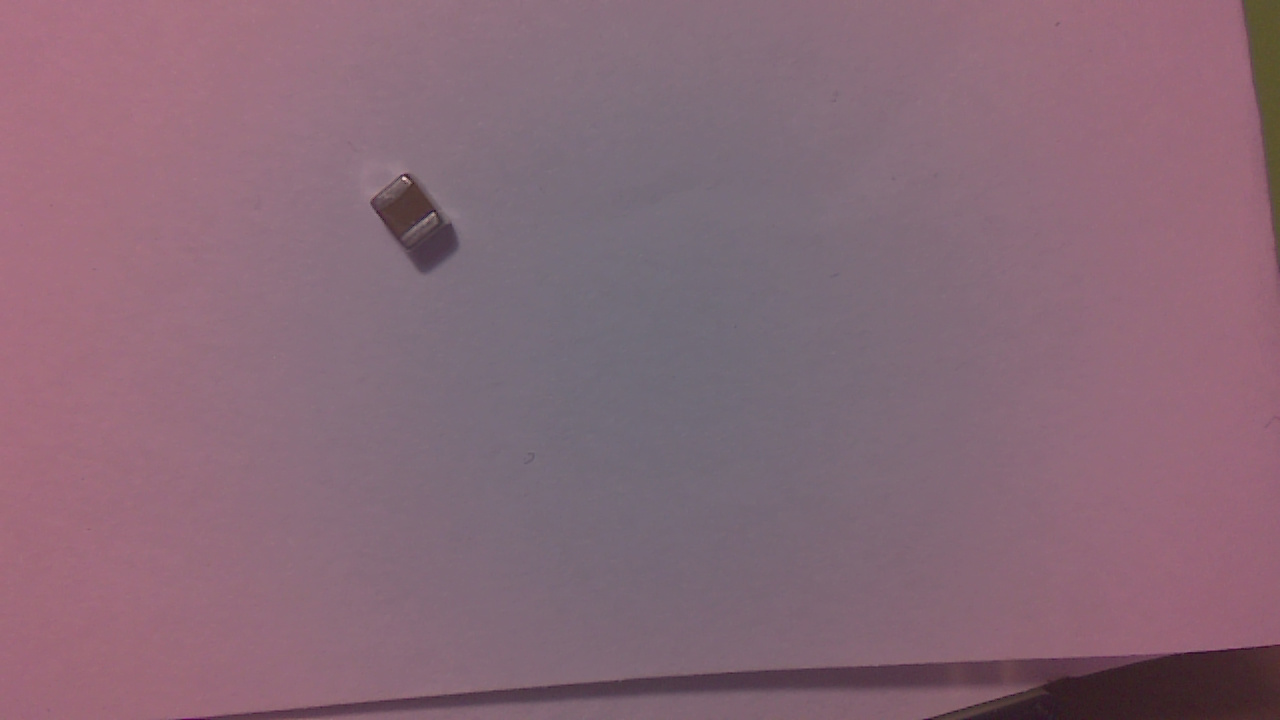Condensator: (376, 176, 455, 254)
